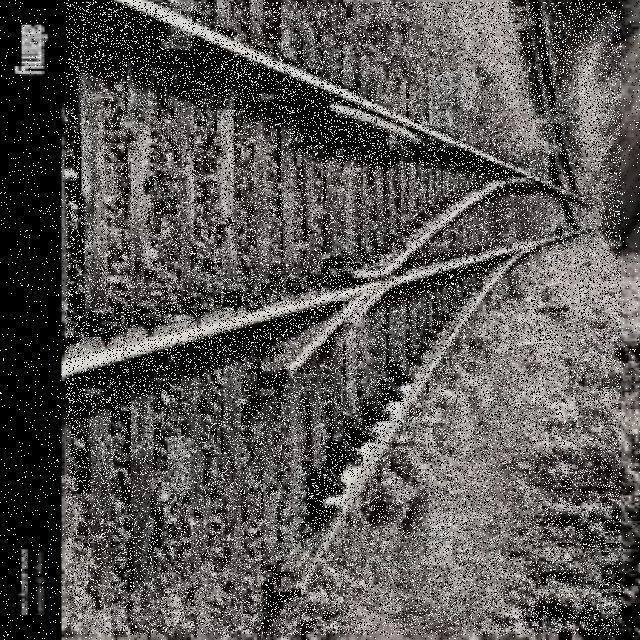rail: (68, 3, 622, 636)
